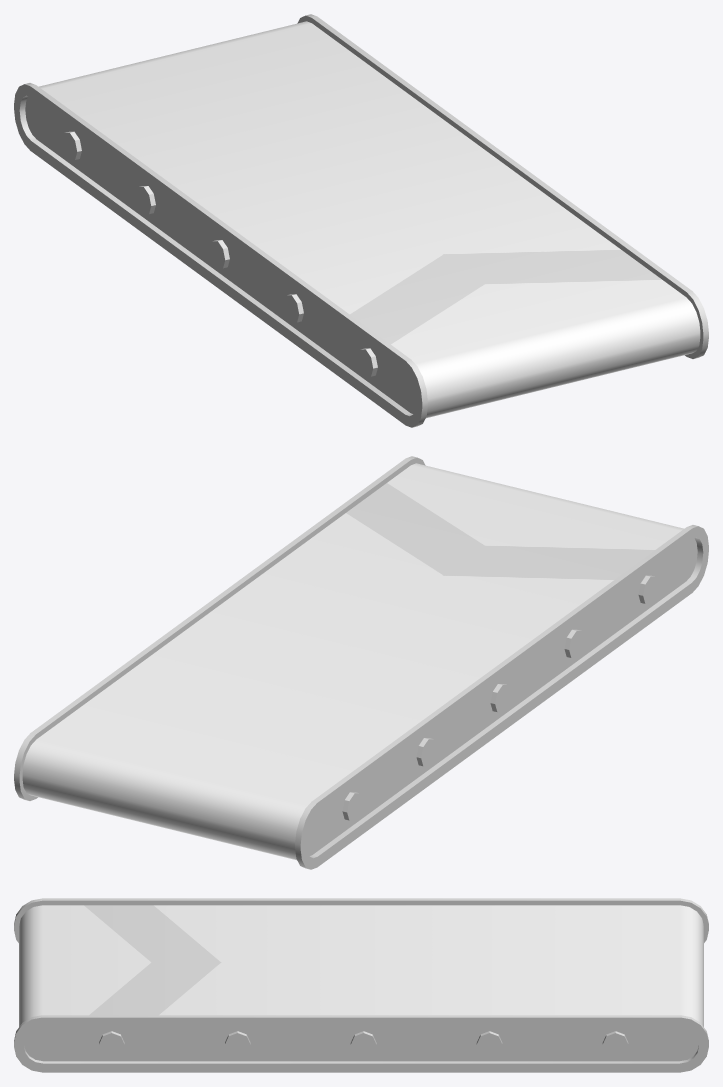
Rendered from Short_Conveyor.fbx.
3 renders of one model, top to bottom at view 1: azimuth 30°, elevation 25°; view 2: azimuth 150°, elevation 25°; view 3: azimuth 270°, elevation 25°, orthographic. The views are drawn at different scales.
Parts seen in each view (by area): view 1: PaletArrow.009, PaletSide.009, Cylinder.010; view 2: PaletArrow.009, PaletSide.009, Cylinder.010; view 3: PaletArrow.009, PaletSide.009, Cylinder.010.
Boxes of the visible parts, x1,y1,x2,y2 form: PaletArrow.009: (39, 21, 700, 418); PaletSide.009: (14, 14, 708, 427); Cylinder.010: (62, 131, 377, 376); PaletArrow.009: (22, 463, 683, 860); PaletSide.009: (14, 456, 708, 869); Cylinder.010: (342, 575, 657, 820); PaletArrow.009: (19, 905, 703, 1026); PaletSide.009: (14, 898, 708, 1072); Cylinder.010: (99, 1031, 628, 1056).
Size of the model in its own units: 166 by 35.88 by 411.
